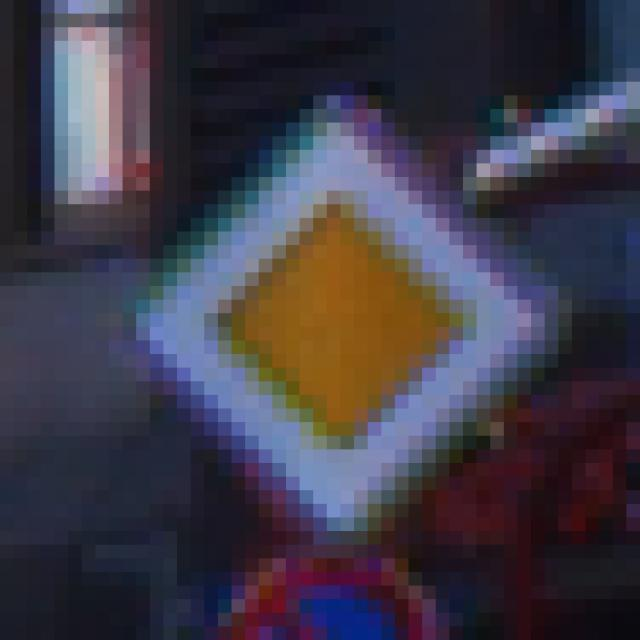Main Road: (83, 83, 573, 573)
